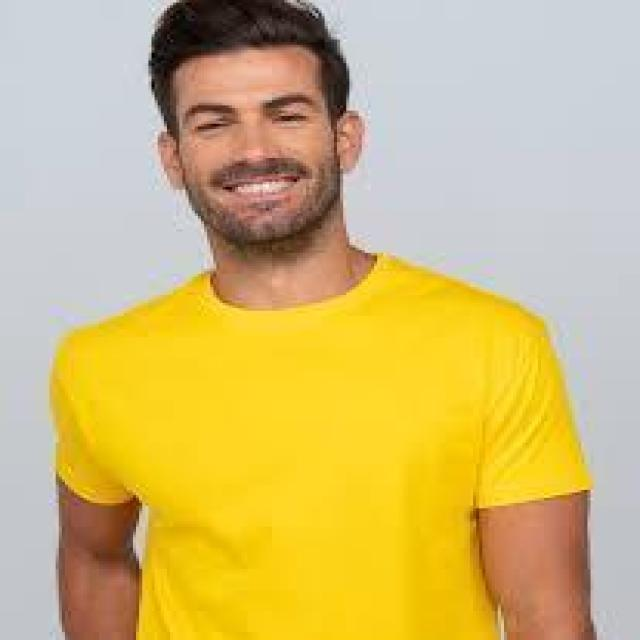Tshirt: (46, 237, 603, 640)
